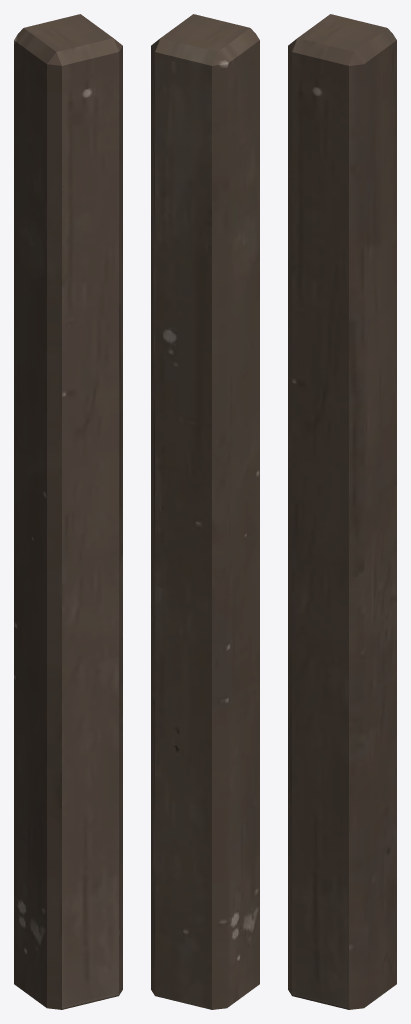
The picture shows the model from 3 angles, left to right: view 1: azimuth 30°, elevation 25°; view 2: azimuth 150°, elevation 25°; view 3: azimuth 330°, elevation 25°; orthographic projection.
Parts seen in each view (by area): view 1: body0_model0_lod0_mesh0; view 2: body0_model0_lod0_mesh0; view 3: body0_model0_lod0_mesh0.
Part boxes in pixels (x1=…): body0_model0_lod0_mesh0: x1=14, y1=14, x2=122, y2=1009; body0_model0_lod0_mesh0: x1=151, y1=14, x2=259, y2=1009; body0_model0_lod0_mesh0: x1=288, y1=14, x2=396, y2=1009.
Bounding box in the file's own units: 4 × 48 × 4.
1 material, 1 textured.
